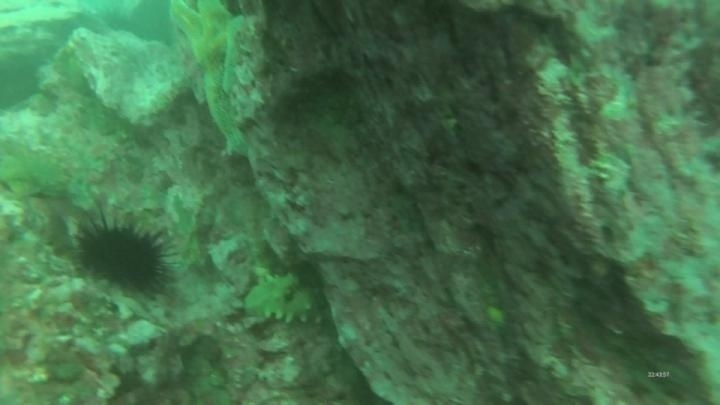echinus: (71, 208, 177, 298)
holothurian: (240, 268, 331, 332)
starfish: (166, 2, 273, 163)
